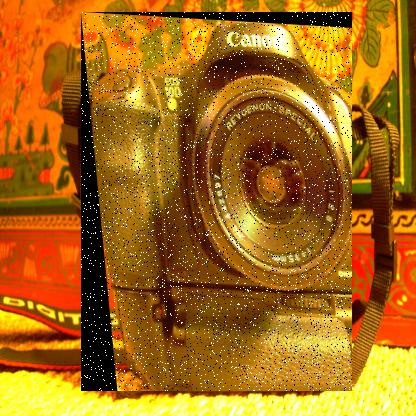Camera: (82, 13, 354, 393)
